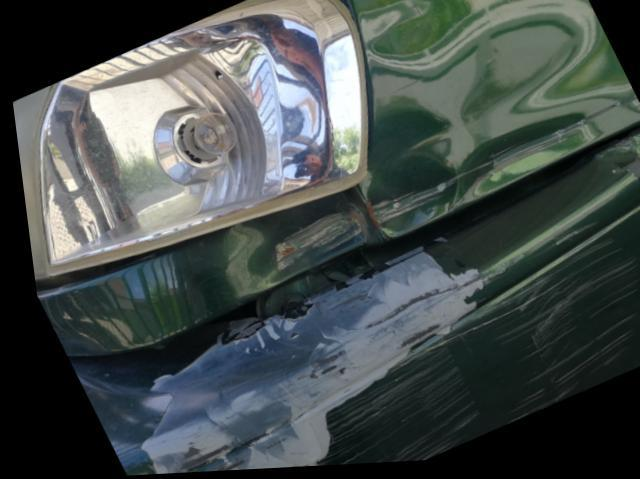dent: (350, 0, 640, 240), (244, 202, 362, 284)
lamp broken: (27, 0, 362, 278)
scratch: (115, 234, 630, 476)
